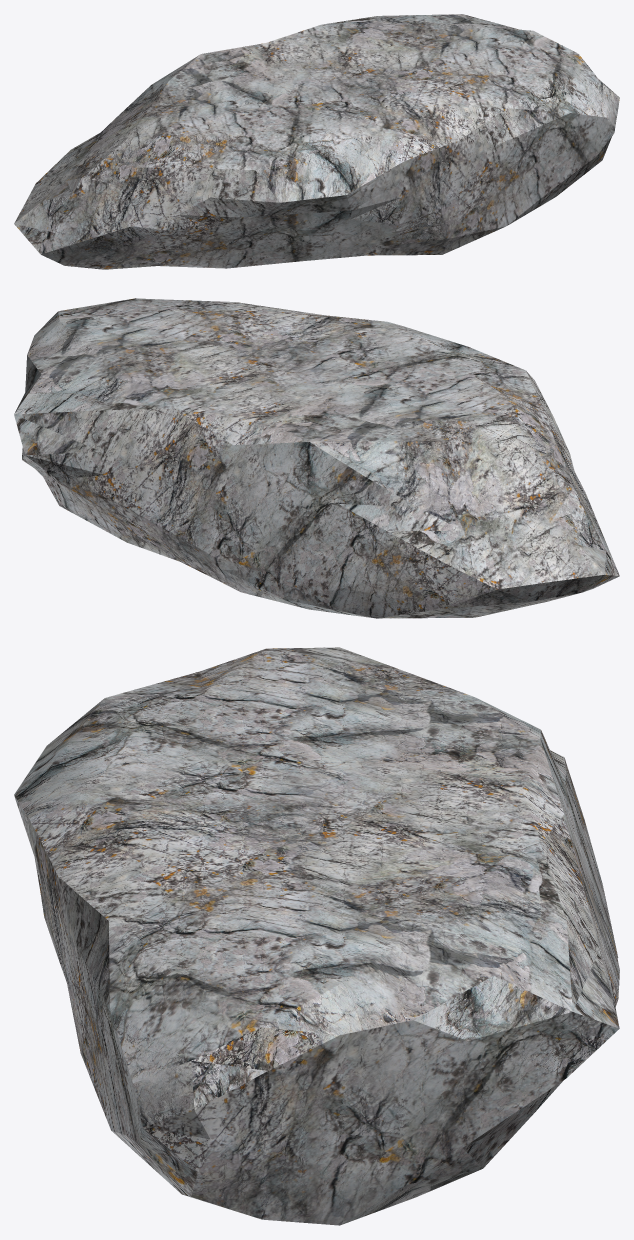
The model's file is granite_slab.gltf.
3 renders of one model, top to bottom at view 1: azimuth 30°, elevation 25°; view 2: azimuth 150°, elevation 25°; view 3: azimuth 270°, elevation 25°, orthographic. The views are drawn at different scales.
Parts seen in each view (by area): view 1: granite_slab; view 2: granite_slab; view 3: granite_slab.
Part boxes in pixels (x1=…): granite_slab: x1=14, y1=14, x2=619, y2=269; granite_slab: x1=14, y1=298, x2=619, y2=618; granite_slab: x1=14, y1=647, x2=619, y2=1225.
Size of the model in its own units: 2.91 by 0.7536 by 1.57.
Materials: 1 (1 with a texture image).
